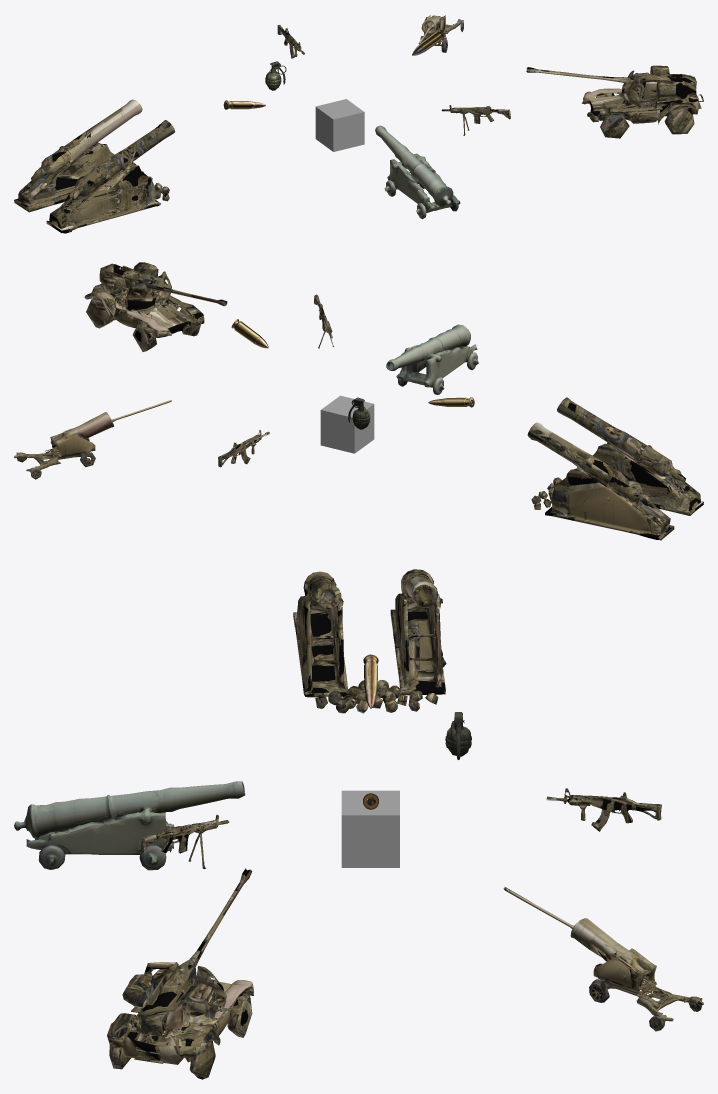
Rendered from Weapons_1m.fbx.
The picture shows the model from 3 angles, top to bottom: view 1: azimuth 30°, elevation 25°; view 2: azimuth 150°, elevation 25°; view 3: azimuth 270°, elevation 25°; orthographic projection. The views are drawn at different scales.
Parts seen in each view (by area): view 1: Mortars2:Mesh_0.002, Light_artillery2:Mesh_0.002, Mortars1:Mesh1_Mesh1.047, M1m, Light_artillery1:Mesh_0.002, MachineGun01:Mesh_0.002, grenade:Mesh1_Mesh1.052, Bullet01:Mesh1_Mesh1.007; view 2: Mortars2:Mesh_0.002, Light_artillery2:Mesh_0.002, Mortars1:Mesh1_Mesh1.047, Light_artillery1:Mesh_0.002, M1m, MachineGun02:Mesh_0.002, grenade:Mesh1_Mesh1.052; view 3: Mortars2:Mesh_0.002, Light_artillery2:Mesh_0.002, Mortars1:Mesh1_Mesh1.047, Light_artillery1:Mesh_0.002, M1m, MachineGun02:Mesh_0.002, MachineGun01:Mesh_0.002, grenade:Mesh1_Mesh1.052.
Boxes of the visible parts, left/top/right/bottom form: Mortars2:Mesh_0.002: left=14, top=99, right=174, bottom=233; Light_artillery2:Mesh_0.002: left=526, top=65, right=703, bottom=138; Mortars1:Mesh1_Mesh1.047: left=375, top=125, right=460, bottom=219; M1m: left=315, top=99, right=364, bottom=151; Light_artillery1:Mesh_0.002: left=418, top=15, right=463, bottom=52; MachineGun01:Mesh_0.002: left=441, top=105, right=510, bottom=135; grenade:Mesh1_Mesh1.052: left=265, top=61, right=286, bottom=90; Bullet01:Mesh1_Mesh1.007: left=412, top=29, right=445, bottom=55; Mortars2:Mesh_0.002: left=527, top=397, right=703, bottom=540; Light_artillery2:Mesh_0.002: left=84, top=262, right=227, bottom=351; Mortars1:Mesh1_Mesh1.047: left=386, top=324, right=478, bottom=394; Light_artillery1:Mesh_0.002: left=14, top=400, right=171, bottom=479; M1m: left=320, top=395, right=374, bottom=453; MachineGun02:Mesh_0.002: left=218, top=430, right=269, bottom=467; grenade:Mesh1_Mesh1.052: left=348, top=397, right=370, bottom=429; Mortars2:Mesh_0.002: left=293, top=569, right=446, bottom=713; Light_artillery2:Mesh_0.002: left=107, top=868, right=253, bottom=1079; Mortars1:Mesh1_Mesh1.047: left=14, top=781, right=245, bottom=870; Light_artillery1:Mesh_0.002: left=503, top=887, right=703, bottom=1031; M1m: left=341, top=790, right=399, bottom=867; MachineGun02:Mesh_0.002: left=546, top=788, right=661, bottom=831; MachineGun01:Mesh_0.002: left=138, top=814, right=229, bottom=868; grenade:Mesh1_Mesh1.052: left=445, top=712, right=471, bottom=759.
Size of the model in its own units: 19.39 by 2.87 by 11.82.
